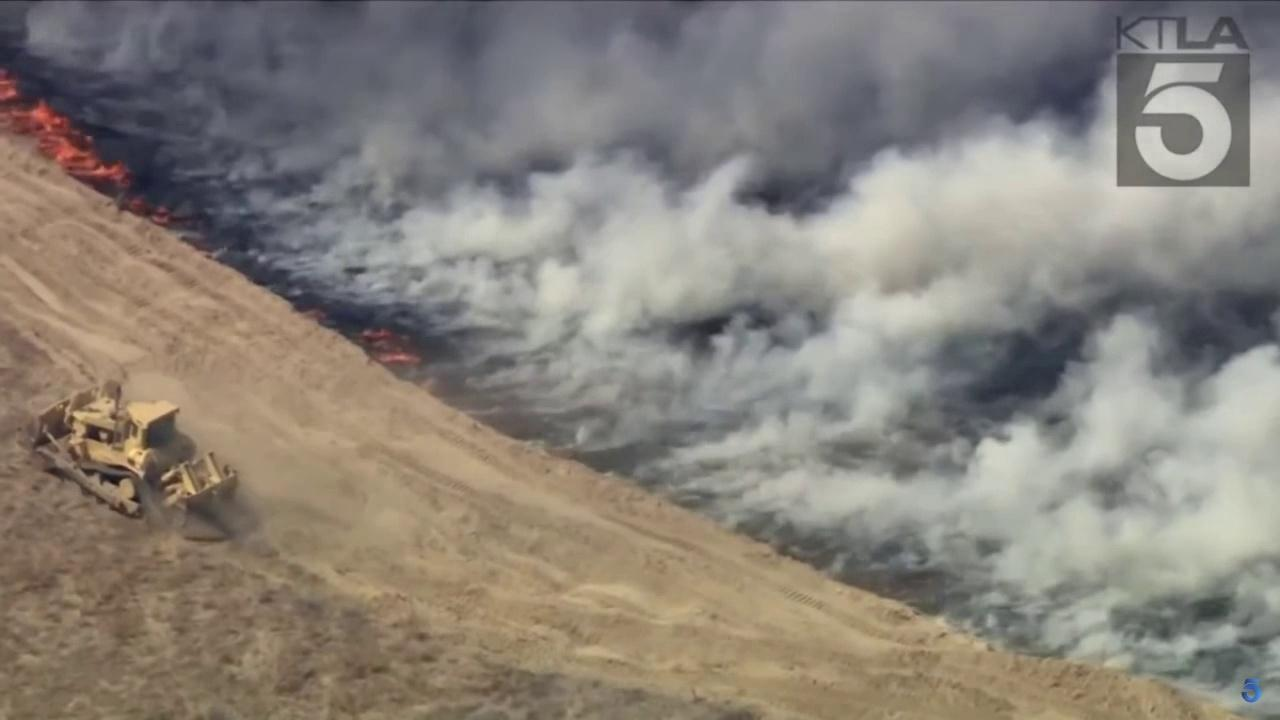fire: (0, 65, 136, 190), (361, 325, 422, 365), (151, 206, 174, 226), (126, 198, 147, 215)
smoke: (0, 0, 1280, 720)
